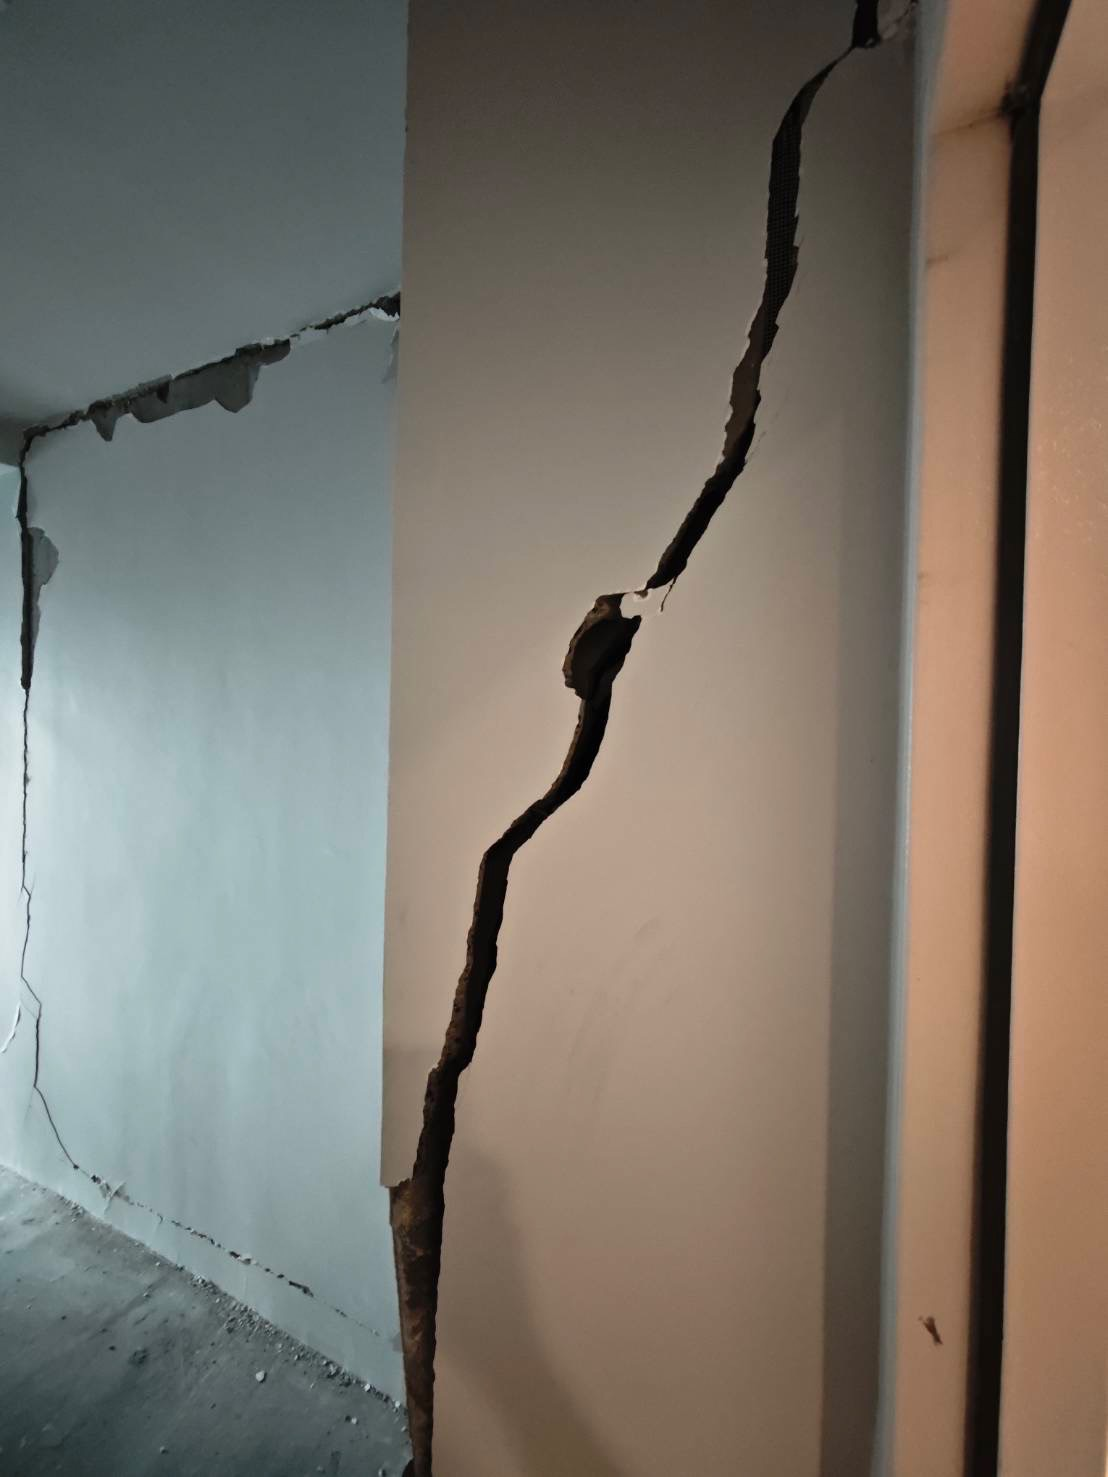High: (10, 5, 900, 1472)
